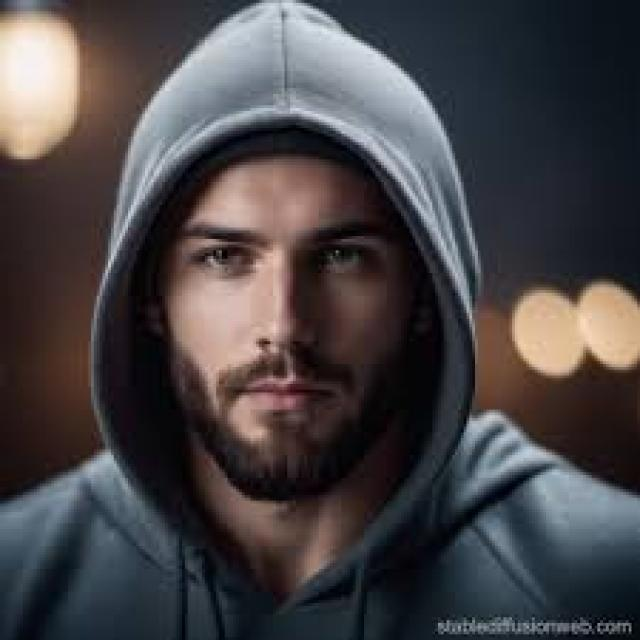4_capucha: (88, 0, 480, 615)
